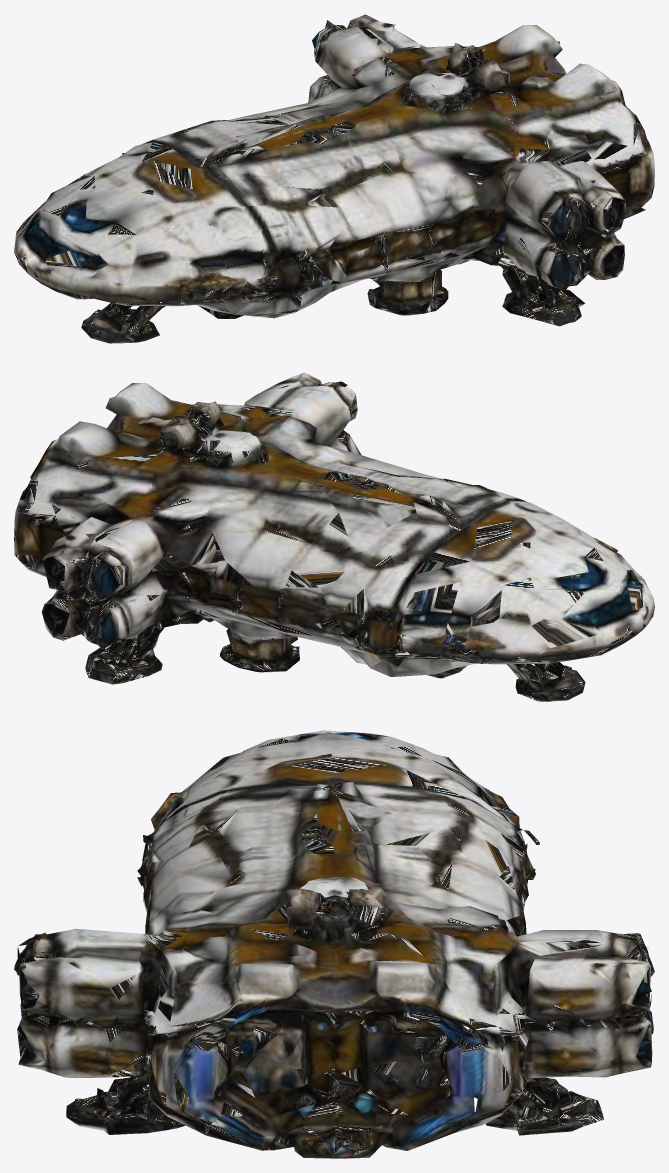
Rendered from tanker.glb.
3 renders of one model, top to bottom at view 1: azimuth 30°, elevation 25°; view 2: azimuth 150°, elevation 25°; view 3: azimuth 270°, elevation 25°, orthographic. The views are drawn at different scales.
Size of the model in its own units: 1.9 by 0.6116 by 1.51.
Materials: 1 (1 with a texture image).
